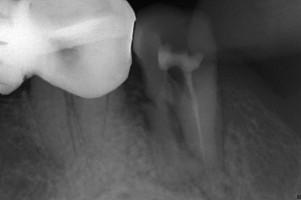Dental Caries: (123, 80, 237, 200), (166, 104, 185, 143)
